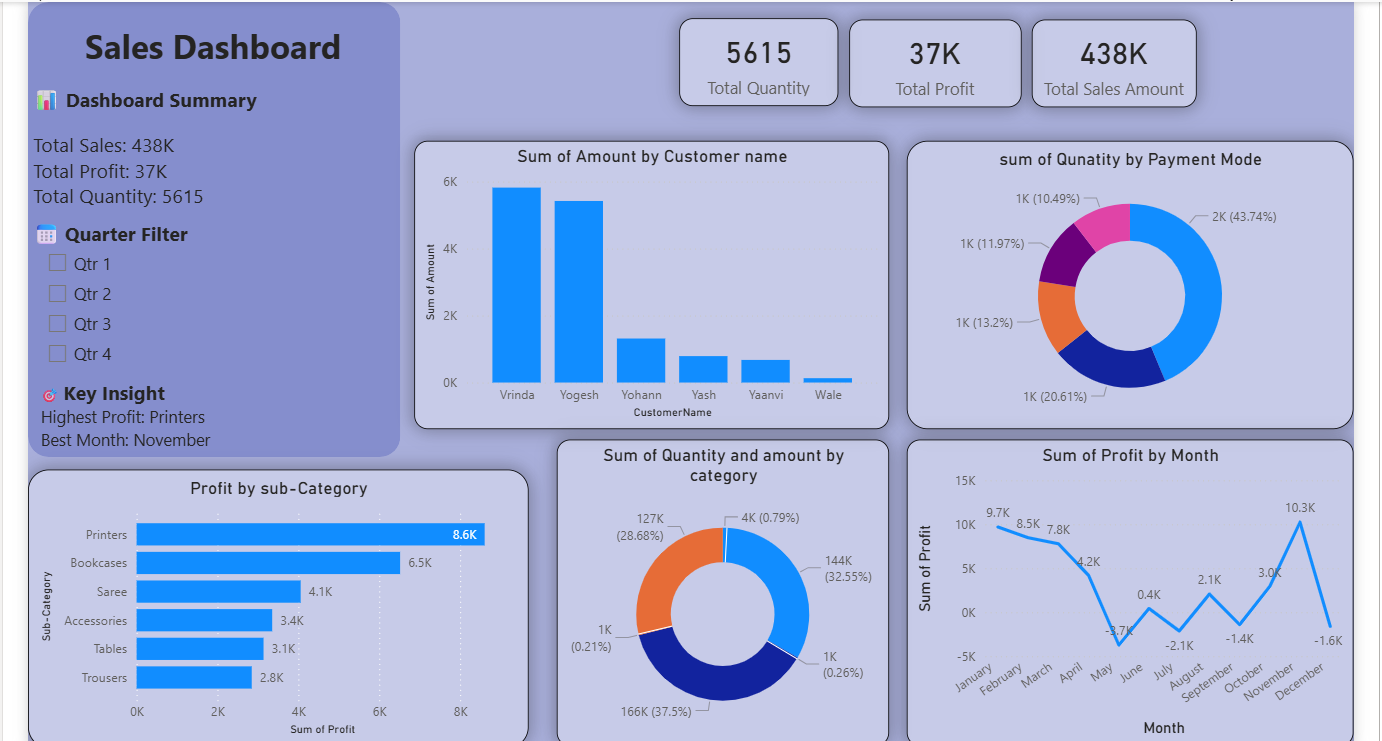

This screenshot's page, from the dashboard's own definition file:
{"tool":"powerbi","page":{"name":"Page 1","canvas":[1280,720],"ordinal":0},"visuals":[{"type":"barChart","title":"Profit by sub-Category","fields":{"Category":["Details (1).Sub-Category"],"Y":["Sum(Details (1).Profit)"]},"box":[0,451.5,483,269],"z":0},{"type":"donutChart","title":"sum of Qunatity by Payment Mode","fields":{"Category":["Details (1).PaymentMode"],"Y":["Sum(Details (1).Quantity)"]},"box":[848,134.5,430.9,278.6],"z":1000},{"type":"donutChart","title":"Sum of Quantity and  amount by category","fields":{"Category":["Details (1).Category"],"Y":["Sum(Details (1).Quantity)","Sum(Details (1).Amount)"]},"box":[510.5,422.6,321.1,296.4],"z":2000},{"type":"lineStackedColumnComboChart","title":"Sum of Amount by Customer name","fields":{"Category":["Orders (1).CustomerName"],"Y":["Sum(Details (1).Amount)"]},"box":[373.2,134.5,458.3,278.6],"z":3000},{"type":"lineChart","fields":{"Category":["Orders (1).Order Date.Variation.Date Hierarchy.Month"],"Y":["Sum(Details (1).Profit)"]},"box":[848,422.6,430.9,296.4],"z":4000},{"type":"card","fields":{"Values":["Sum(Details (1).Quantity)"]},"box":[628.5,15.1,153.7,85.1],"z":5000},{"type":"card","fields":{"Values":["Sum(Details (1).Profit)"]},"box":[793.1,16.5,166,85.1],"z":6000},{"type":"card","fields":{"Values":["Sum(Details (1).Amount)"]},"box":[968.8,16.5,159.2,85.1],"z":7000},{"type":"shape","box":[0,0,359.5,439.1],"z":8000},{"type":"textbox","box":[6.9,15.1,343.1,86.4],"z":9000},{"type":"textbox","box":[0,74.1,359.5,194.9],"z":10000},{"type":"textbox","box":[0,205.8,212.7,127.6],"z":11000},{"type":"slicer","fields":{"Values":["Orders (1).Order Date.Variation.Date Hierarchy.Quarter"]},"box":[6.9,233.3,205.8,179.8],"z":12000},{"type":"textbox","box":[6.9,359.5,273.1,79.6],"z":13000}]}

Visuals, with their boxes in screenshot pixels (x1, y1, x2, y2):
"Profit by sub-Category" barChart: 22,468,530,740
"sum of Qunatity by Payment Mode" donutChart: 914,134,1368,428
"Sum of Quantity and  amount by category" donutChart: 559,438,897,740
"Sum of Amount by Customer name" lineStackedColumnComboChart: 414,134,897,428
lineChart - Orders (1).Order Date.Variation.Date Hierarchy.Month x Sum(Details (1).Profit): 914,438,1368,740
card - Sum(Details (1).Quantity): 683,9,845,98
card - Sum(Details (1).Profit): 857,10,1031,100
card - Sum(Details (1).Amount): 1042,10,1209,100
shape: 22,0,400,455
textbox: 29,9,390,100
textbox: 22,71,400,276
textbox: 22,209,246,344
slicer - Orders (1).Order Date.Variation.Date Hierarchy.Quarter: 29,238,246,428
textbox: 29,371,316,455
